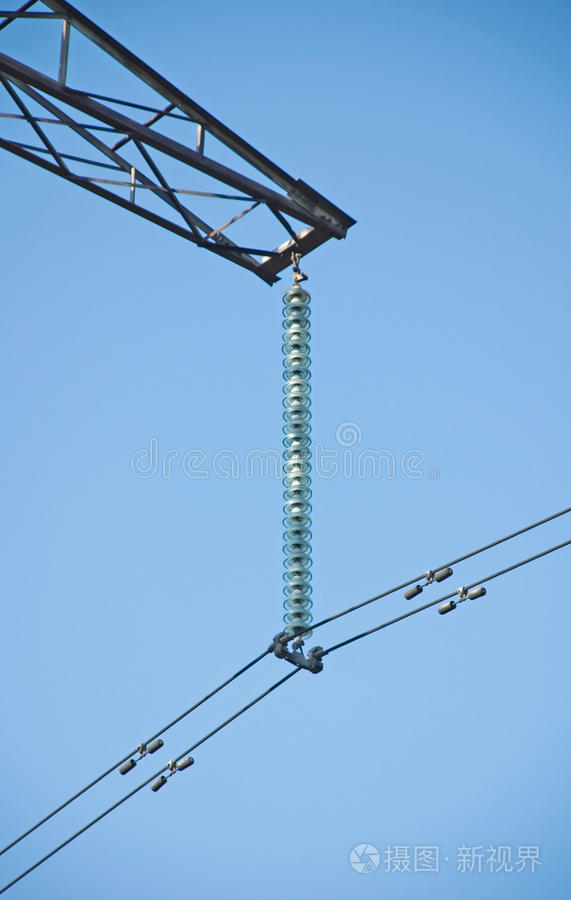insulator: (282, 287, 316, 638)
